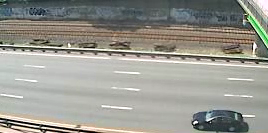car: (190, 108, 246, 133)
